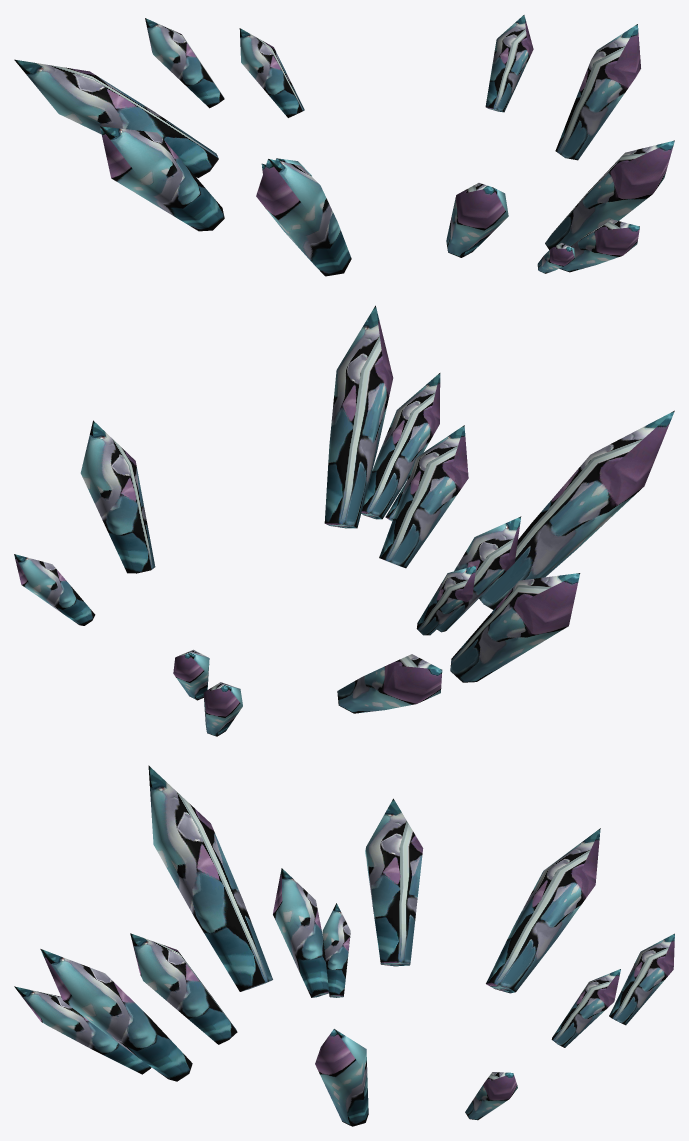
The model's file is 0217_baofengci_shuijun_M_02.glb.
3 renders of one model, top to bottom at view 1: azimuth 30°, elevation 25°; view 2: azimuth 150°, elevation 25°; view 3: azimuth 270°, elevation 25°, orthographic. The views are drawn at different scales.
Size of the model in its own units: 1.84 by 0.6356 by 2.2.
Materials: 1 (1 with a texture image).
